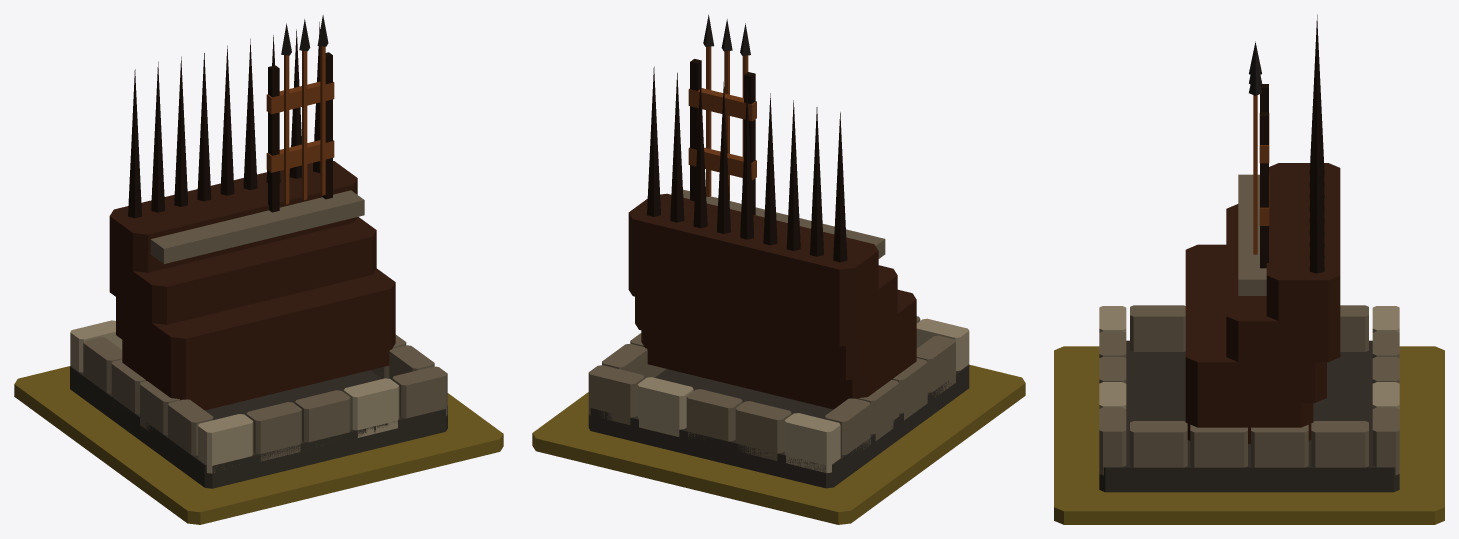
The model's file is rampart_t3.glb.
3 views of the same model, side by side, from view 1: azimuth 30°, elevation 25°; view 2: azimuth 150°, elevation 25°; view 3: azimuth 270°, elevation 25° (orthographic). The views are drawn at different scales.
Visible parts, largest first — view 1: MMR | rampart | T03 Architecture.001, MMR | rampart | Tier 03 Ground.001; view 2: MMR | rampart | T03 Architecture.001, MMR | rampart | Tier 03 Ground.001; view 3: MMR | rampart | T03 Architecture.001, MMR | rampart | Tier 03 Ground.001.
Boxes of the visible parts, <box> form: MMR | rampart | T03 Architecture.001: <box>70,15,447,488</box>; MMR | rampart | Tier 03 Ground.001: <box>14,366,503,524</box>; MMR | rampart | T03 Architecture.001: <box>588,14,969,488</box>; MMR | rampart | Tier 03 Ground.001: <box>532,364,1025,524</box>; MMR | rampart | T03 Architecture.001: <box>1099,14,1399,492</box>; MMR | rampart | Tier 03 Ground.001: <box>1054,346,1444,524</box>.
Bounding box in the file's own units: 1.3 × 1.53 × 1.3.
Materials: 1 (1 with a texture image).
